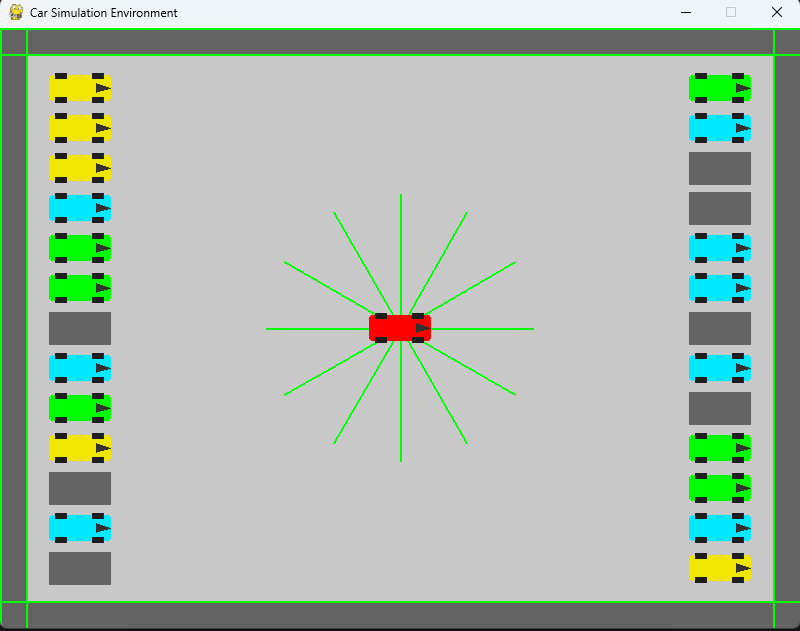ControlledCar: (363, 304, 451, 350)
ParkedCar: (45, 507, 116, 552), (43, 150, 120, 191), (44, 349, 118, 389), (683, 68, 757, 106), (45, 68, 116, 107), (685, 229, 754, 269), (45, 429, 119, 466), (48, 390, 116, 430), (688, 429, 751, 471), (684, 109, 753, 147), (44, 190, 121, 224), (686, 270, 758, 306), (683, 512, 758, 546), (684, 349, 755, 384), (45, 232, 114, 267), (44, 112, 117, 145), (684, 551, 753, 584), (685, 474, 753, 506), (49, 273, 114, 304)
ParkingSpot: (35, 546, 132, 589), (681, 189, 759, 228), (46, 310, 121, 349), (683, 389, 756, 429), (683, 150, 759, 188), (685, 308, 755, 346), (45, 470, 115, 505)
